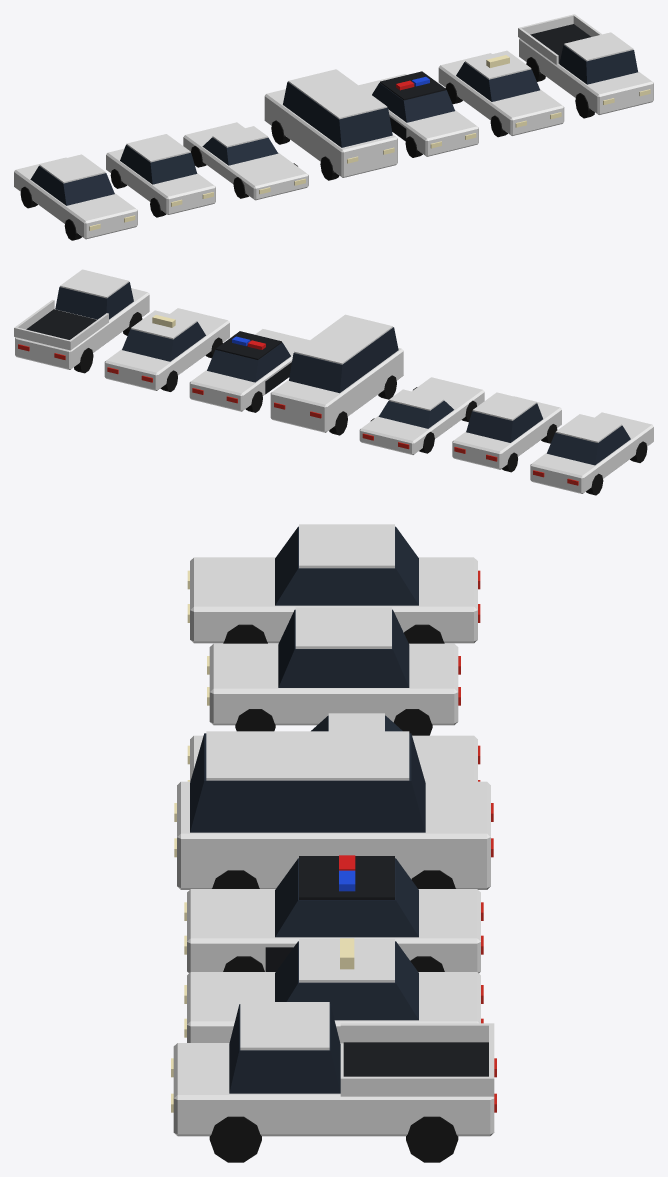
Rendered from vehicles.glb.
3 renders of one model, top to bottom at view 1: azimuth 30°, elevation 25°; view 2: azimuth 150°, elevation 25°; view 3: azimuth 270°, elevation 25°, orthographic. The views are drawn at different scales.
Parts seen in each view (by area): view 1: van_body, sports_body, taxi_body, sedan_body, pickup_body, van_cabin, compact_body, police_body, van_roof, pickup_cabin, sedan_cabin, taxi_cabin (+12 smaller); view 2: van_body, sports_body, taxi_body, sedan_body, van_cabin, police_body, pickup_body, compact_body, van_roof, pickup_cabin, police_cabin, taxi_cabin (+14 smaller); view 3: van_body, pickup_body, van_cabin, compact_body, sedan_body, police_body, van_roof, taxi_body, police_cabin, sedan_cabin, compact_cabin, taxi_cabin (+13 smaller).
Boxes of the visible parts, left/top/right/bottom form: van_body: left=264, top=89, right=397, bottom=177; sports_body: left=183, top=122, right=308, bottom=200; taxi_body: left=438, top=53, right=564, bottom=135; sedan_body: left=14, top=157, right=137, bottom=239; pickup_body: left=519, top=38, right=653, bottom=114; van_cabin: left=283, top=82, right=392, bottom=147; compact_body: left=106, top=148, right=215, bottom=214; police_body: left=359, top=74, right=478, bottom=156; van_roof: left=288, top=69, right=387, bottom=119; pickup_cabin: left=559, top=45, right=637, bottom=84; sedan_cabin: left=30, top=166, right=114, bottom=205; taxi_cabin: left=456, top=62, right=539, bottom=101; van_body: left=270, top=348, right=403, bottom=432; sports_body: left=359, top=377, right=484, bottom=454; taxi_body: left=104, top=308, right=229, bottom=390; sedan_body: left=530, top=412, right=653, bottom=493; van_cabin: left=289, top=327, right=398, bottom=393; police_body: left=189, top=329, right=309, bottom=411; pickup_body: left=15, top=288, right=149, bottom=369; compact_body: left=452, top=396, right=561, bottom=469; van_roof: left=294, top=314, right=392, bottom=364; pickup_cabin: left=55, top=282, right=133, bottom=319; police_cabin: left=207, top=342, right=290, bottom=382; taxi_cabin: left=122, top=321, right=205, bottom=361; van_body: left=177, top=781, right=490, bottom=889; pickup_body: left=173, top=1043, right=494, bottom=1136; van_cabin: left=190, top=733, right=425, bottom=832; compact_body: left=209, top=643, right=458, bottom=725; sedan_body: left=190, top=557, right=477, bottom=643; police_body: left=187, top=889, right=480, bottom=973; van_roof: left=206, top=731, right=409, bottom=780; taxi_body: left=187, top=972, right=480, bottom=1042; police_cabin: left=275, top=858, right=418, bottom=937; sedan_cabin: left=275, top=526, right=418, bottom=605; compact_cabin: left=278, top=609, right=409, bottom=687; taxi_cabin: left=275, top=941, right=418, bottom=1020.
Size of the model in its own units: 20.01 by 2.21 by 4.98.
